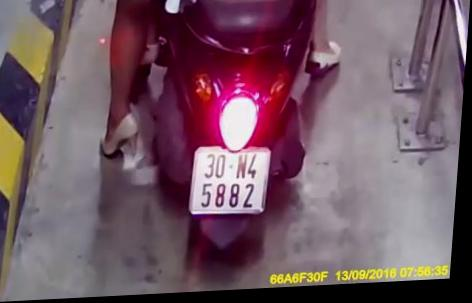License_Plate: (181, 140, 278, 222)
